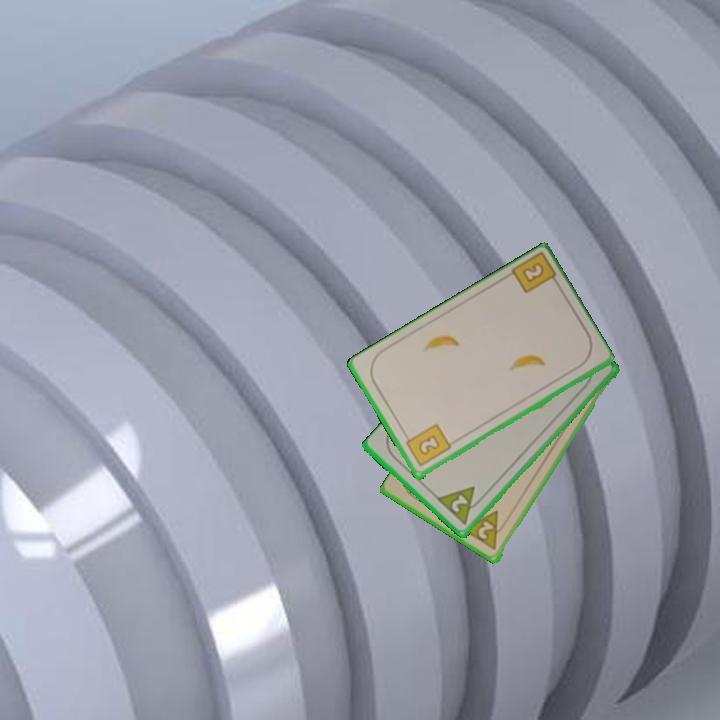2b: (401, 421, 454, 470), (507, 251, 563, 297)
2p: (460, 507, 511, 554), (434, 483, 487, 528)
